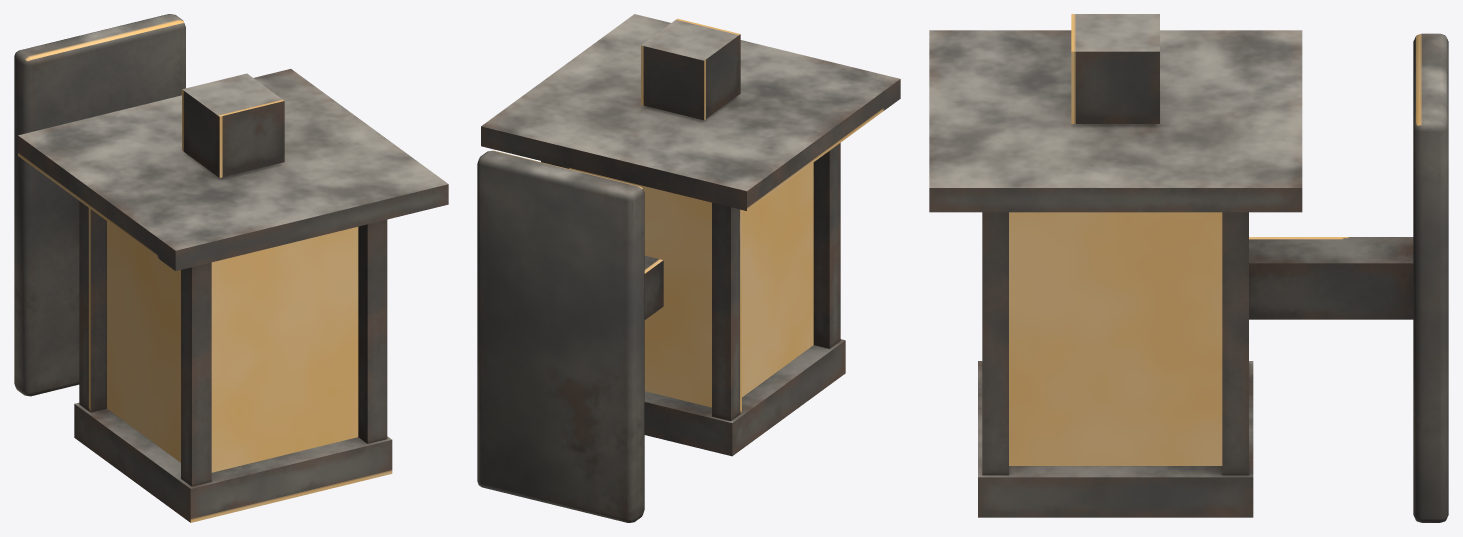
Rendered from porch_light.fbx.
3 renders of one model, left to right at view 1: azimuth 30°, elevation 25°; view 2: azimuth 150°, elevation 25°; view 3: azimuth 270°, elevation 25°, orthographic. The views are drawn at different scales.
Parts seen in each view (by area): view 1: Body, Glow; view 2: Body, Glow; view 3: Body, Glow.
Part boxes in pixels (x1=…): Body: x1=14, y1=14, x2=448, y2=522; Glow: x1=107, y1=221, x2=358, y2=472; Body: x1=477, y1=14, x2=900, y2=522; Glow: x1=569, y1=162, x2=813, y2=407; Body: x1=929, y1=14, x2=1448, y2=522; Glow: x1=1009, y1=212, x2=1222, y2=465.
Size of the model in its own units: 0.84 by 1.11 by 1.17.
1 material, 1 textured.
